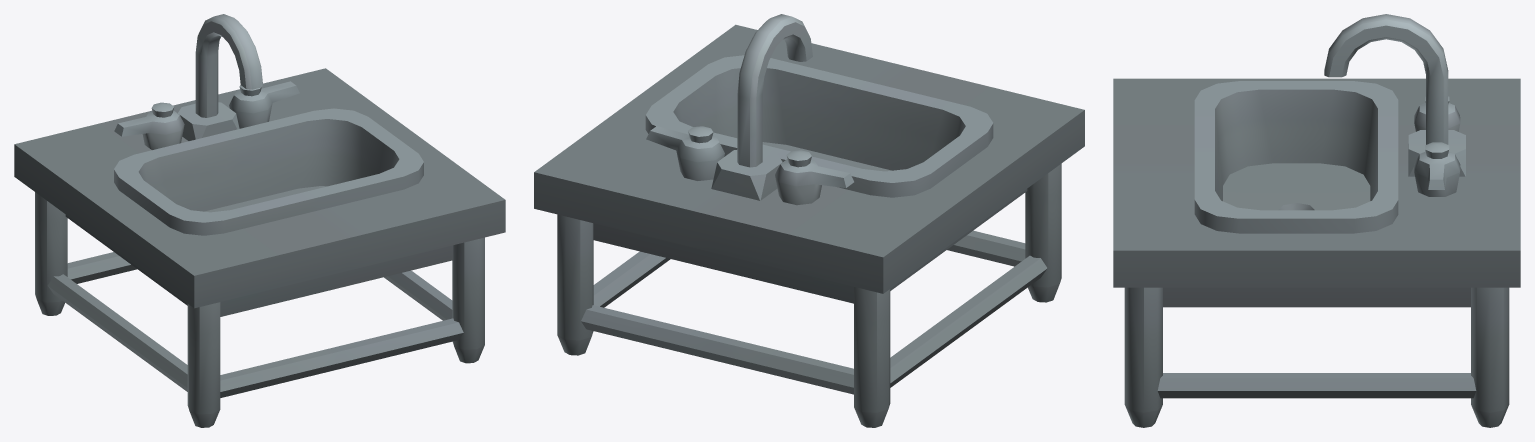
File: kkr.kitchentable_sink.glb
The picture shows the model from 3 angles, left to right: view 1: azimuth 30°, elevation 25°; view 2: azimuth 150°, elevation 25°; view 3: azimuth 270°, elevation 25°; orthographic projection. The views are drawn at different scales.
Visible parts, largest first — view 1: kitchentable_sink; view 2: kitchentable_sink; view 3: kitchentable_sink.
Part boxes in pixels (box(x1,y1,x2,y2)): kitchentable_sink: box(14, 14, 505, 427); kitchentable_sink: box(534, 14, 1084, 427); kitchentable_sink: box(1113, 14, 1520, 427).
Bounding box in the file's own units: 1.49 × 1.35 × 1.49.
1 material, 1 textured.
